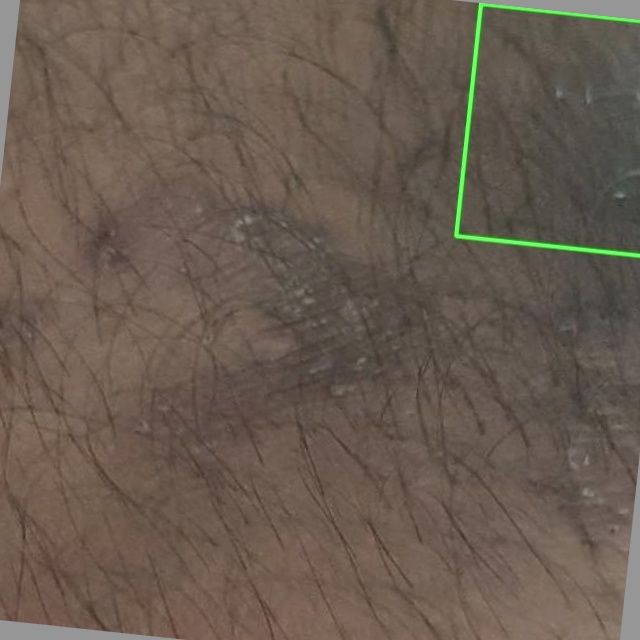Tinea Corporis: (456, 3, 639, 255)
